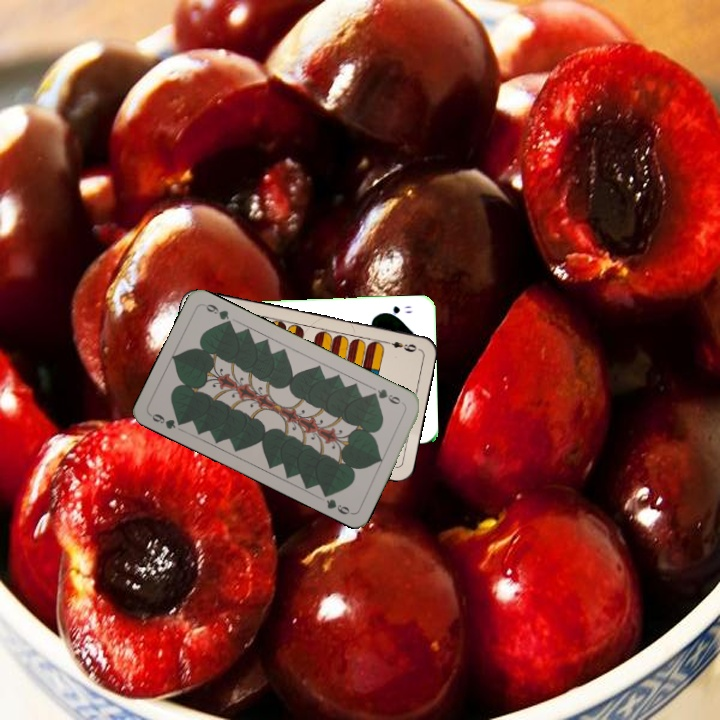E9: (381, 337, 421, 355)
G9: (146, 409, 187, 432), (367, 385, 407, 408)
GO: (379, 302, 415, 318)
